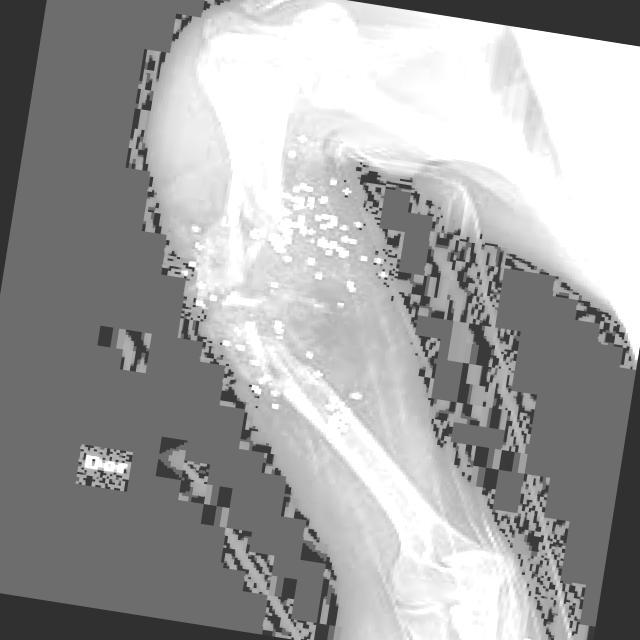Comminuted Fracture: (188, 261, 326, 369)
